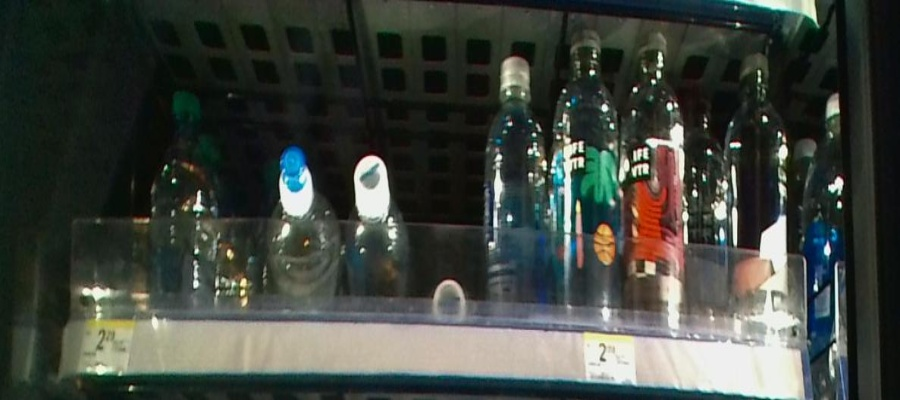bottle: (553, 33, 623, 320), (626, 28, 688, 326), (732, 40, 791, 327), (485, 56, 550, 312), (149, 87, 214, 294), (338, 145, 406, 302), (268, 138, 332, 302), (691, 86, 728, 308)
